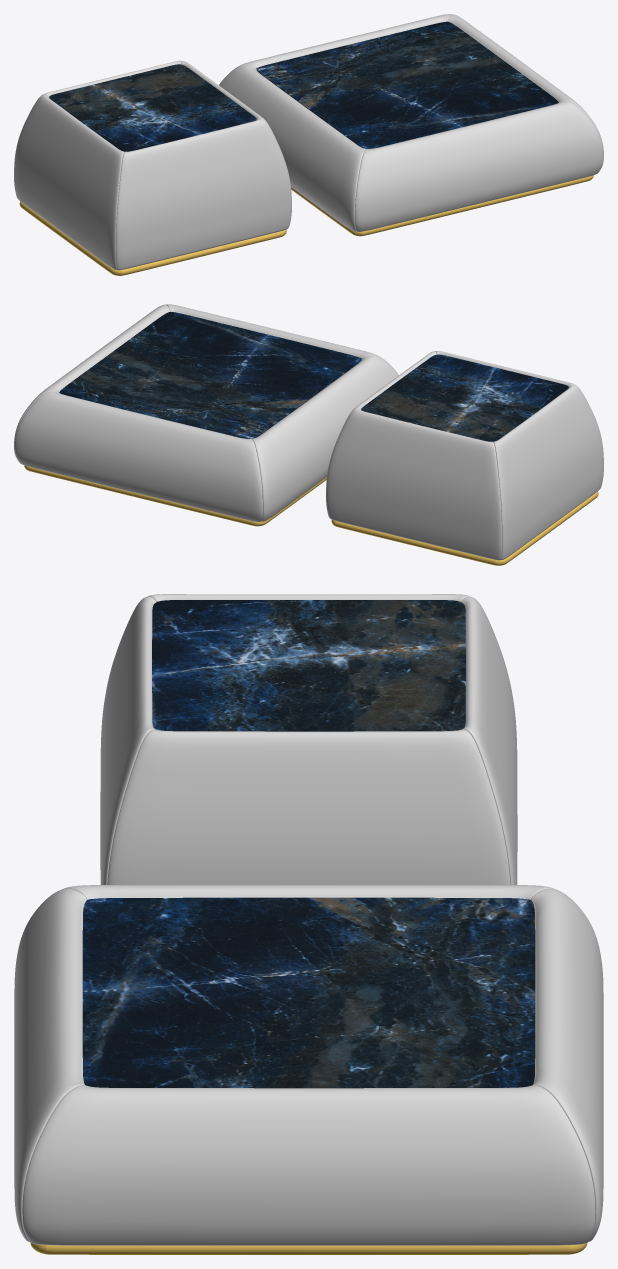
Rendered from SBH_GRAND-THEORY.glb.
The picture shows the model from 3 angles, top to bottom: view 1: azimuth 30°, elevation 25°; view 2: azimuth 150°, elevation 25°; view 3: azimuth 270°, elevation 25°; orthographic projection. The views are drawn at different scales.
Visible parts, largest first — view 1: GRAND THEORY; view 2: GRAND THEORY; view 3: GRAND THEORY.
Boxes of the visible parts, x1,y1,x2,y2 form: GRAND THEORY: (14,14,603,275); GRAND THEORY: (14,304,603,565); GRAND THEORY: (14,594,603,1254).
Bounding box in the file's own units: 2.14 × 0.493 × 1.16.
Materials: 3 (1 with a texture image).
